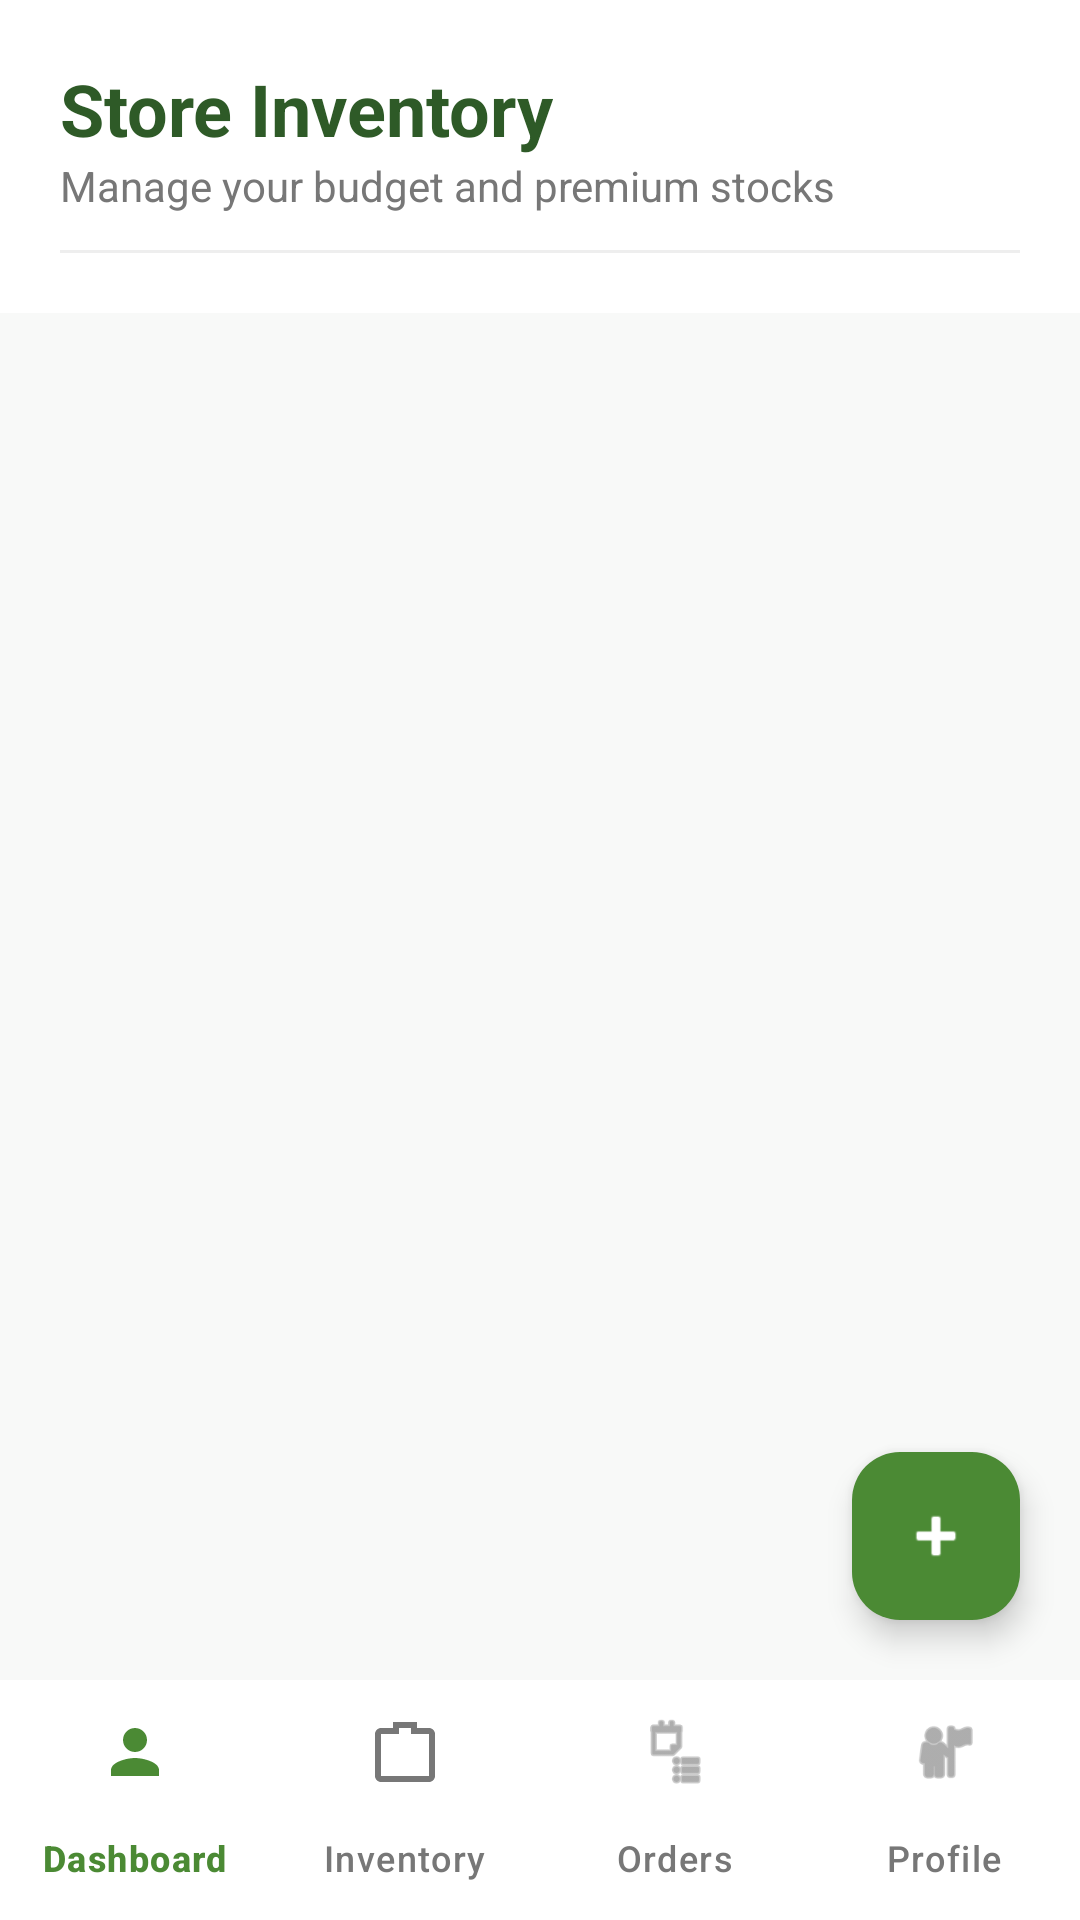

Named icons in this screenshot (1080w x 1920h) and their centers, (x=x, y=y):
Add New Item: (x=936, y=1536)
